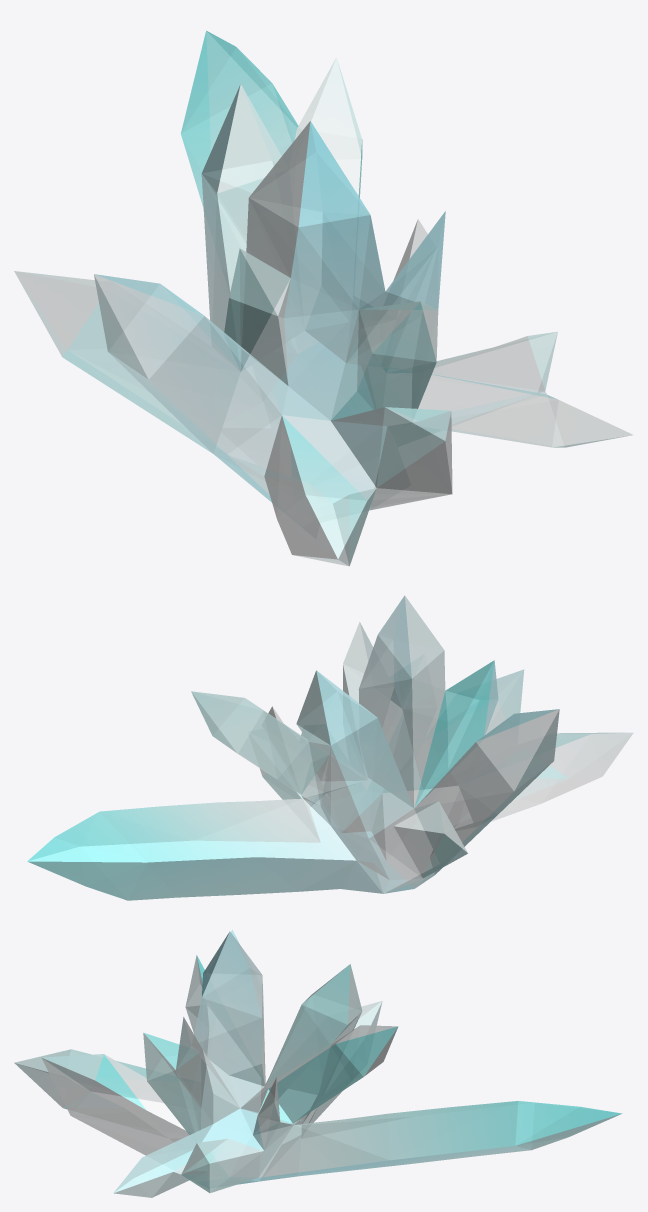
The model's file is VoidDiamond_Crystal1.glb.
The picture shows the model from 3 angles, top to bottom: view 1: azimuth 30°, elevation 25°; view 2: azimuth 150°, elevation 25°; view 3: azimuth 270°, elevation 25°; orthographic projection. The views are drawn at different scales.
Parts seen in each view (by area): view 1: Crystal 1; view 2: Crystal 1; view 3: Crystal 1.
Part boxes in pixels (box(x1,y1,x2,y2)): Crystal 1: box(14, 30, 633, 566); Crystal 1: box(27, 595, 633, 900); Crystal 1: box(14, 930, 622, 1197).
Bounding box in the file's own units: 1.73 × 1.49 × 3.29.
1 material, 1 textured.
